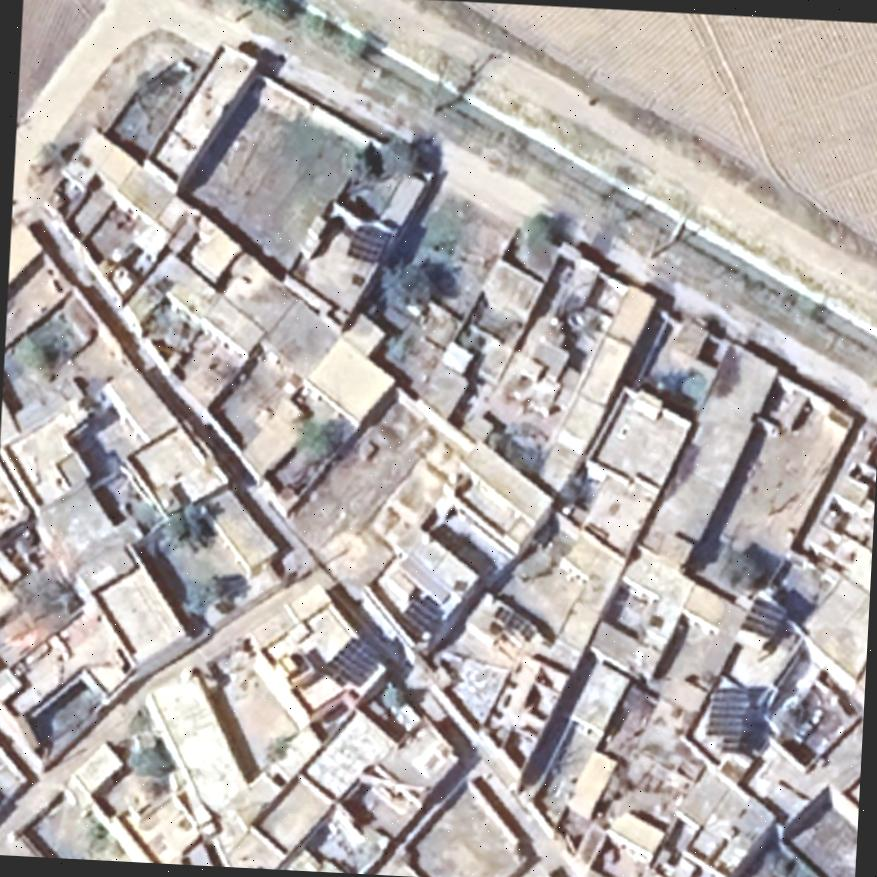Solarpanel: (325, 635, 385, 688), (703, 682, 755, 742), (736, 592, 792, 646), (397, 594, 444, 638), (344, 222, 390, 262)
